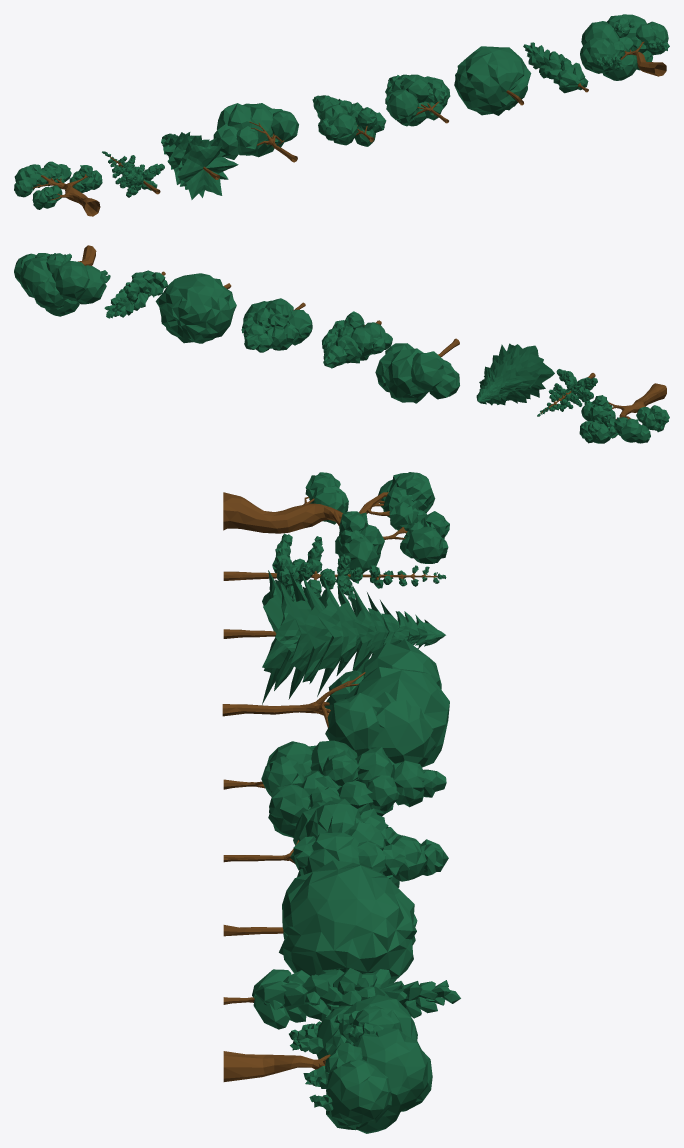
Rendered from trees rework4.fbx.
3 views of the same model, one above another, from view 1: azimuth 30°, elevation 25°; view 2: azimuth 150°, elevation 25°; view 3: azimuth 270°, elevation 25° (orthographic). The views are drawn at different scales.
Visible parts, largest first — view 1: Tree_09.001, Tree_07.001, Tree_04.001, Tree_03.001, Tree_01.001, Tree_06.001, Tree_05.001, Tree_08.001, Tree_02.001; view 2: Tree_09.001, Tree_07.001, Tree_04.001, Tree_01.001, Tree_03.001, Tree_06.001, Tree_05.001, Tree_08.001, Tree_02.001; view 3: Tree_09.001, Tree_07.001, Tree_04.001, Tree_03.001, Tree_01.001, Tree_05.001, Tree_06.001, Tree_08.001, Tree_02.001.
Boxes of the visible parts, box(x1,y1,x2,y2) form: Tree_09.001: box(580, 14, 669, 80); Tree_07.001: box(454, 46, 531, 115); Tree_04.001: box(213, 103, 298, 162); Tree_03.001: box(161, 132, 238, 199); Tree_01.001: box(14, 161, 102, 216); Tree_06.001: box(385, 74, 450, 126); Tree_05.001: box(312, 95, 386, 146); Tree_08.001: box(523, 42, 588, 93); Tree_02.001: box(102, 151, 164, 197); Tree_09.001: box(14, 245, 110, 316); Tree_07.001: box(155, 273, 236, 343); Tree_04.001: box(375, 338, 459, 403); Tree_01.001: box(579, 383, 669, 443); Tree_03.001: box(476, 343, 554, 405); Tree_06.001: box(241, 298, 312, 352); Tree_05.001: box(322, 311, 392, 368); Tree_08.001: box(104, 270, 167, 318); Tree_02.001: box(537, 369, 597, 416); Tree_09.001: box(223, 994, 432, 1133); Tree_07.001: box(223, 860, 417, 984); Tree_04.001: box(222, 639, 449, 767); Tree_03.001: box(223, 570, 445, 704); Tree_01.001: box(223, 472, 449, 573); Tree_05.001: box(223, 740, 446, 837); Tree_06.001: box(223, 798, 448, 887); Tree_08.001: box(223, 968, 460, 1029); Tree_02.001: box(223, 533, 446, 602).
Bounding box in the file's own units: 931 × 91.31 × 150.
